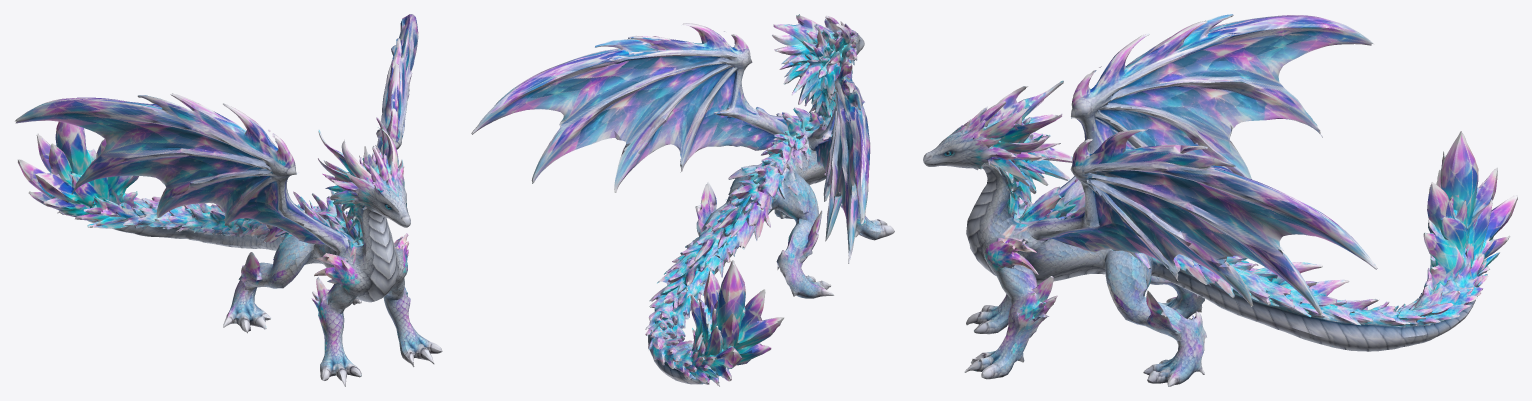
Rendered from crystal_dragon2.glb.
3 renders of one model, left to right at view 1: azimuth 30°, elevation 25°; view 2: azimuth 150°, elevation 25°; view 3: azimuth 270°, elevation 25°, orthographic. The views are drawn at different scales.
Parts seen in each view (by area): view 1: Mesh_0; view 2: Mesh_0; view 3: Mesh_0.
Boxes of the visible parts, <box> form: Mesh_0: <box>15,14,442,386</box>; Mesh_0: <box>471,14,894,386</box>; Mesh_0: <box>923,14,1517,386</box>.
Size of the model in its own units: 1.67 by 0.9473 by 1.89.
Materials: 1 (1 with a texture image).
